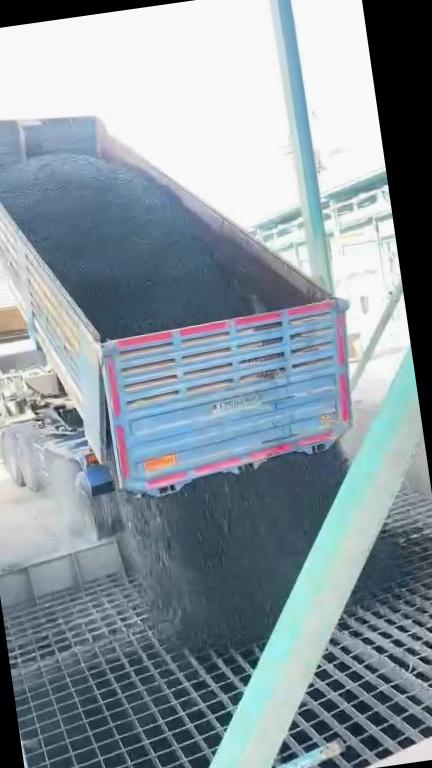gravel: (0, 156, 251, 340), (124, 445, 347, 650), (354, 538, 401, 600)
